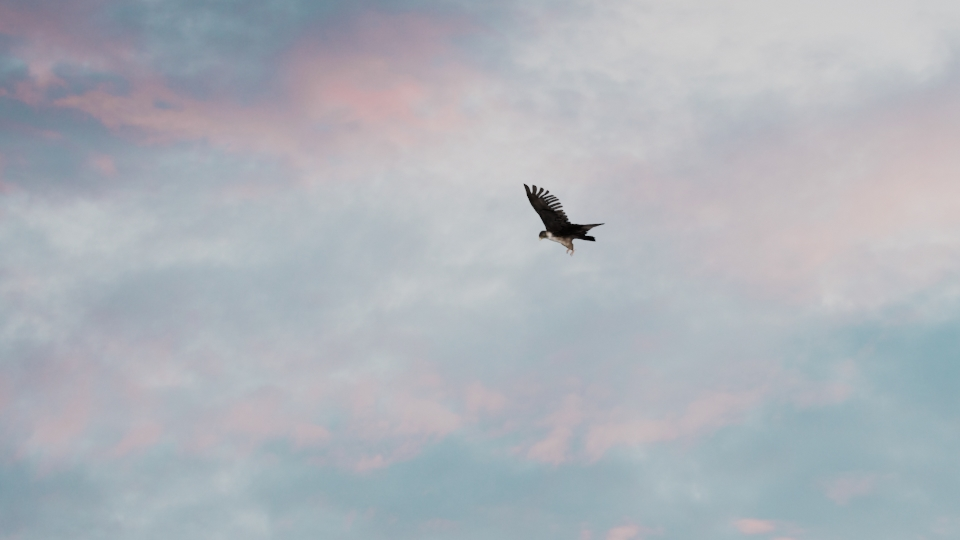bird: (522, 182, 606, 252)
